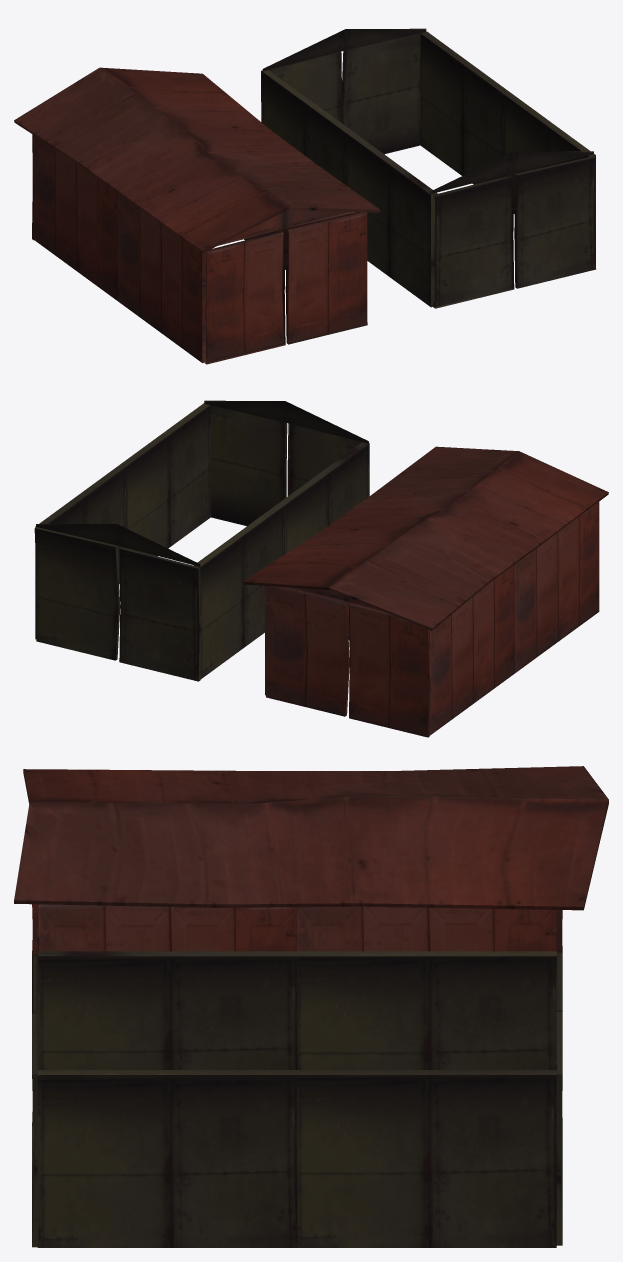
File: NEW garage_red_green.fbx
3 views of the same model, one above another, from view 1: azimuth 30°, elevation 25°; view 2: azimuth 150°, elevation 25°; view 3: azimuth 270°, elevation 25° (orthographic). The views are drawn at different scales.
Visible parts, largest first — view 1: kelly-sikkema-JUPzi-F3Iww-unsplash.020, kelly-sikkema-JUPzi-F3Iww-unsplash.006, kelly-sikkema-JUPzi-F3Iww-unsplash, kelly-sikkema-JUPzi-F3Iww-unsplash.017, kelly-sikkema-JUPzi-F3Iww-unsplash.003, kelly-sikkema-JUPzi-F3Iww-unsplash.018, kelly-sikkema-JUPzi-F3Iww-unsplash.002, kelly-sikkema-JUPzi-F3Iww-unsplash.019, kelly-sikkema-JUPzi-F3Iww-unsplash.015, kelly-sikkema-JUPzi-F3Iww-unsplash.016, kelly-sikkema-JUPzi-F3Iww-unsplash.005; view 2: kelly-sikkema-JUPzi-F3Iww-unsplash.020, kelly-sikkema-JUPzi-F3Iww-unsplash.006, kelly-sikkema-JUPzi-F3Iww-unsplash, kelly-sikkema-JUPzi-F3Iww-unsplash.019, kelly-sikkema-JUPzi-F3Iww-unsplash.001, kelly-sikkema-JUPzi-F3Iww-unsplash.017, kelly-sikkema-JUPzi-F3Iww-unsplash.018, kelly-sikkema-JUPzi-F3Iww-unsplash.015, kelly-sikkema-JUPzi-F3Iww-unsplash.016; view 3: kelly-sikkema-JUPzi-F3Iww-unsplash.020, kelly-sikkema-JUPzi-F3Iww-unsplash.006, kelly-sikkema-JUPzi-F3Iww-unsplash, kelly-sikkema-JUPzi-F3Iww-unsplash.017, kelly-sikkema-JUPzi-F3Iww-unsplash.019.
Boxes of the visible parts, left/top/right/bottom form: kelly-sikkema-JUPzi-F3Iww-unsplash.020: left=262, top=31, right=595, bottom=307; kelly-sikkema-JUPzi-F3Iww-unsplash.006: left=14, top=67, right=380, bottom=253; kelly-sikkema-JUPzi-F3Iww-unsplash: left=33, top=135, right=367, bottom=362; kelly-sikkema-JUPzi-F3Iww-unsplash.017: left=514, top=156, right=596, bottom=288; kelly-sikkema-JUPzi-F3Iww-unsplash.003: left=285, top=212, right=367, bottom=344; kelly-sikkema-JUPzi-F3Iww-unsplash.018: left=433, top=175, right=514, bottom=308; kelly-sikkema-JUPzi-F3Iww-unsplash.002: left=204, top=230, right=285, bottom=364; kelly-sikkema-JUPzi-F3Iww-unsplash.019: left=261, top=51, right=342, bottom=122; kelly-sikkema-JUPzi-F3Iww-unsplash.015: left=430, top=151, right=593, bottom=193; kelly-sikkema-JUPzi-F3Iww-unsplash.016: left=262, top=28, right=426, bottom=71; kelly-sikkema-JUPzi-F3Iww-unsplash.005: left=218, top=209, right=356, bottom=245; kelly-sikkema-JUPzi-F3Iww-unsplash.020: left=34, top=403, right=369, bottom=679; kelly-sikkema-JUPzi-F3Iww-unsplash.006: left=243, top=446, right=608, bottom=630; kelly-sikkema-JUPzi-F3Iww-unsplash: left=264, top=502, right=599, bottom=735; kelly-sikkema-JUPzi-F3Iww-unsplash.019: left=119, top=547, right=201, bottom=681; kelly-sikkema-JUPzi-F3Iww-unsplash.001: left=349, top=603, right=430, bottom=737; kelly-sikkema-JUPzi-F3Iww-unsplash.017: left=210, top=405, right=287, bottom=525; kelly-sikkema-JUPzi-F3Iww-unsplash.018: left=287, top=423, right=368, bottom=495; kelly-sikkema-JUPzi-F3Iww-unsplash.015: left=204, top=400, right=368, bottom=443; kelly-sikkema-JUPzi-F3Iww-unsplash.016: left=36, top=524, right=200, bottom=566; kelly-sikkema-JUPzi-F3Iww-unsplash.020: left=37, top=951, right=562, bottom=1247; kelly-sikkema-JUPzi-F3Iww-unsplash.006: left=14, top=766, right=608, bottom=910; kelly-sikkema-JUPzi-F3Iww-unsplash: left=37, top=904, right=562, bottom=960; kelly-sikkema-JUPzi-F3Iww-unsplash.017: left=32, top=1013, right=39, bottom=1247; kelly-sikkema-JUPzi-F3Iww-unsplash.019: left=554, top=952, right=562, bottom=1170.
Bounding box in the file's own units: 847 × 275 × 681.
Materials: 1 (1 with a texture image).
